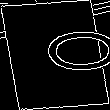O_W: (8, 31, 102, 79)
